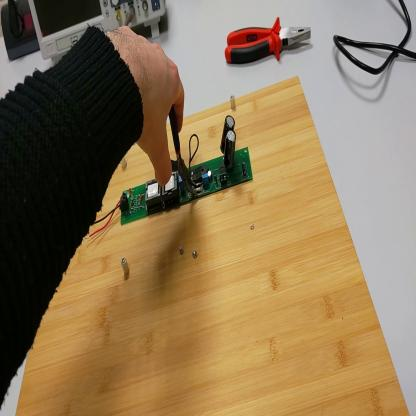hand: (103, 29, 185, 188)
high voltage board: (86, 115, 254, 240)
oscilloscope: (29, 2, 168, 68)
pliers: (225, 15, 315, 73), (170, 106, 198, 196)
socket: (2, 1, 40, 65)
working area: (17, 73, 411, 415)
